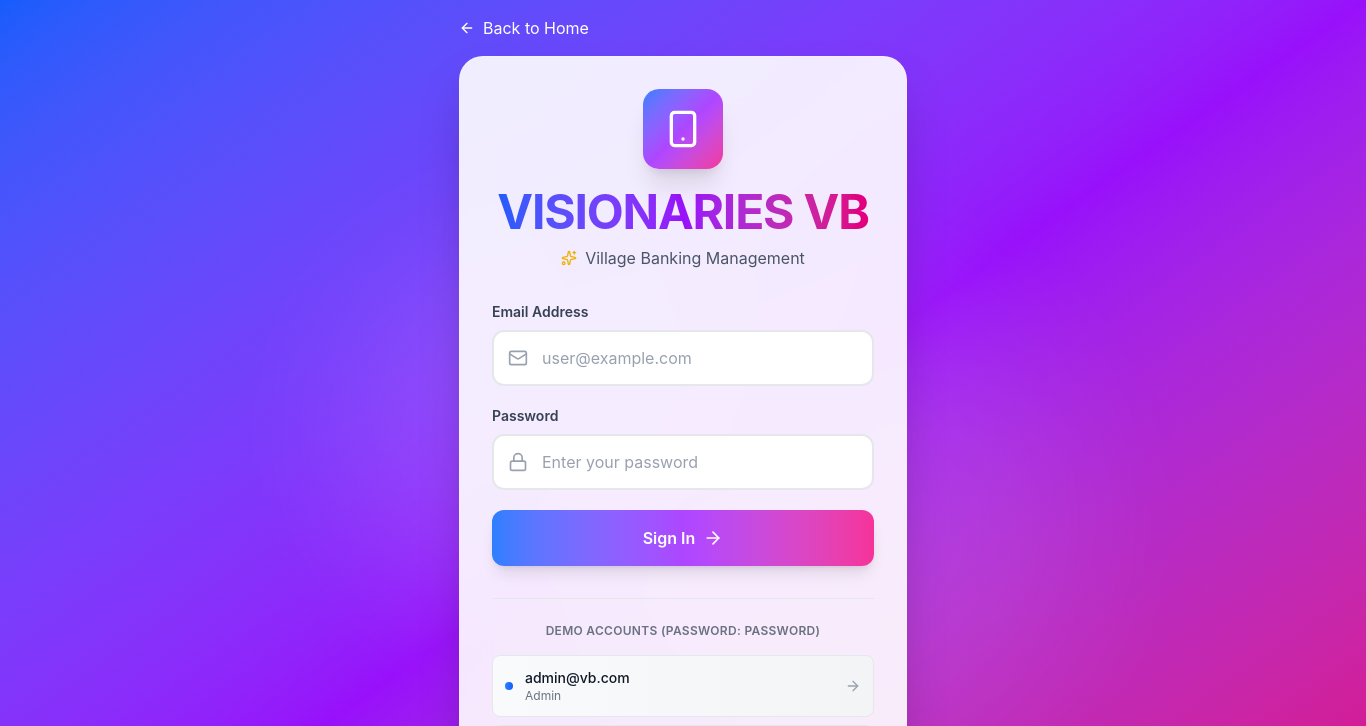
Scenario: Login page › shows error message on login failure
This screenshot has width=1366, height=726.
Type "bad@vb.com" into the field with placeholder "user@example.com" at (683, 358), box x1=492 y1=330 x2=874 y2=386
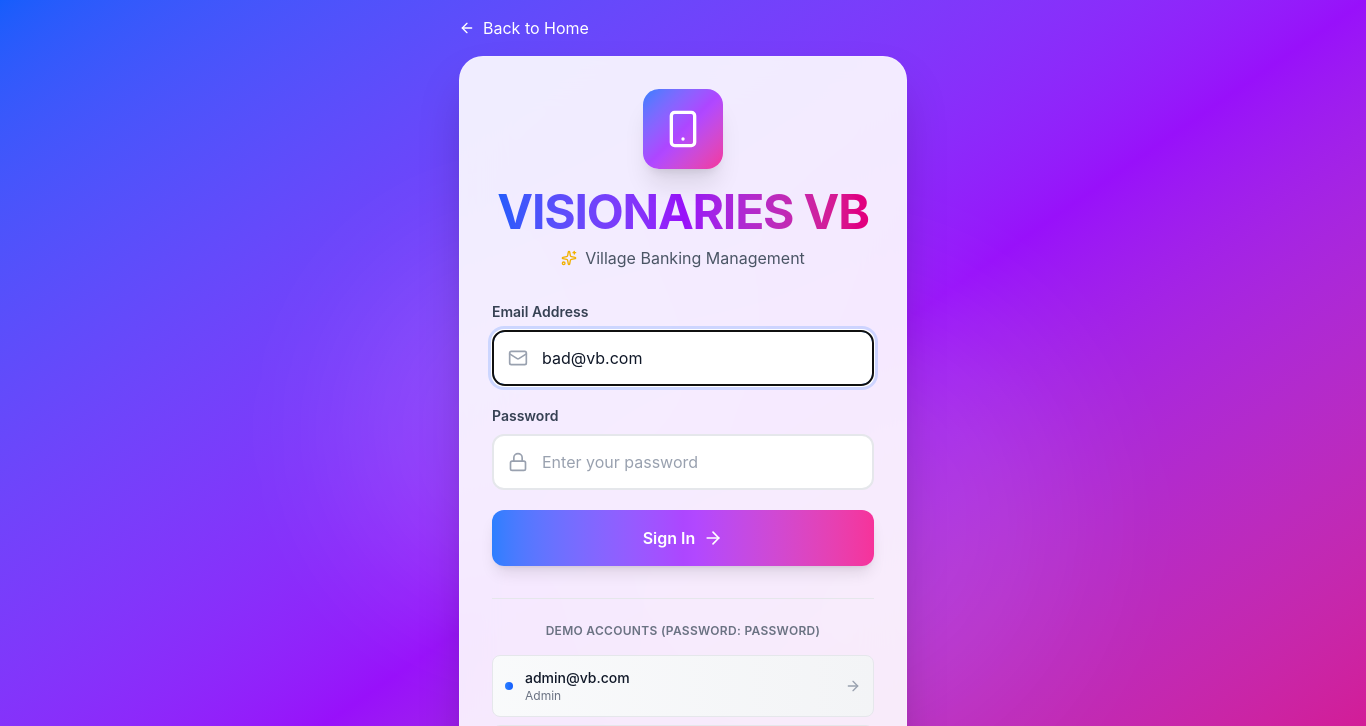
Type "wrong" into the password field with placeholder "Enter your password" at (683, 462), box x1=492 y1=434 x2=874 y2=490
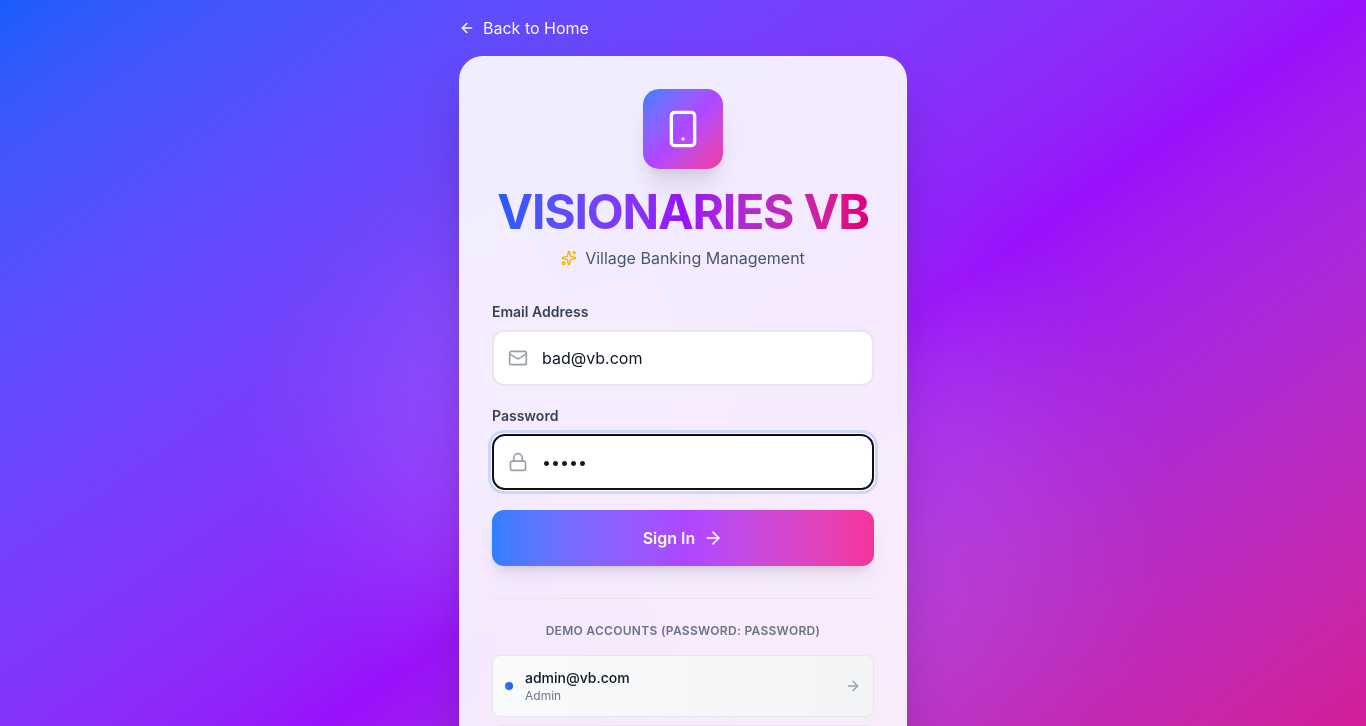
Click the button "Sign In" at (683, 538), box x1=492 y1=510 x2=874 y2=566
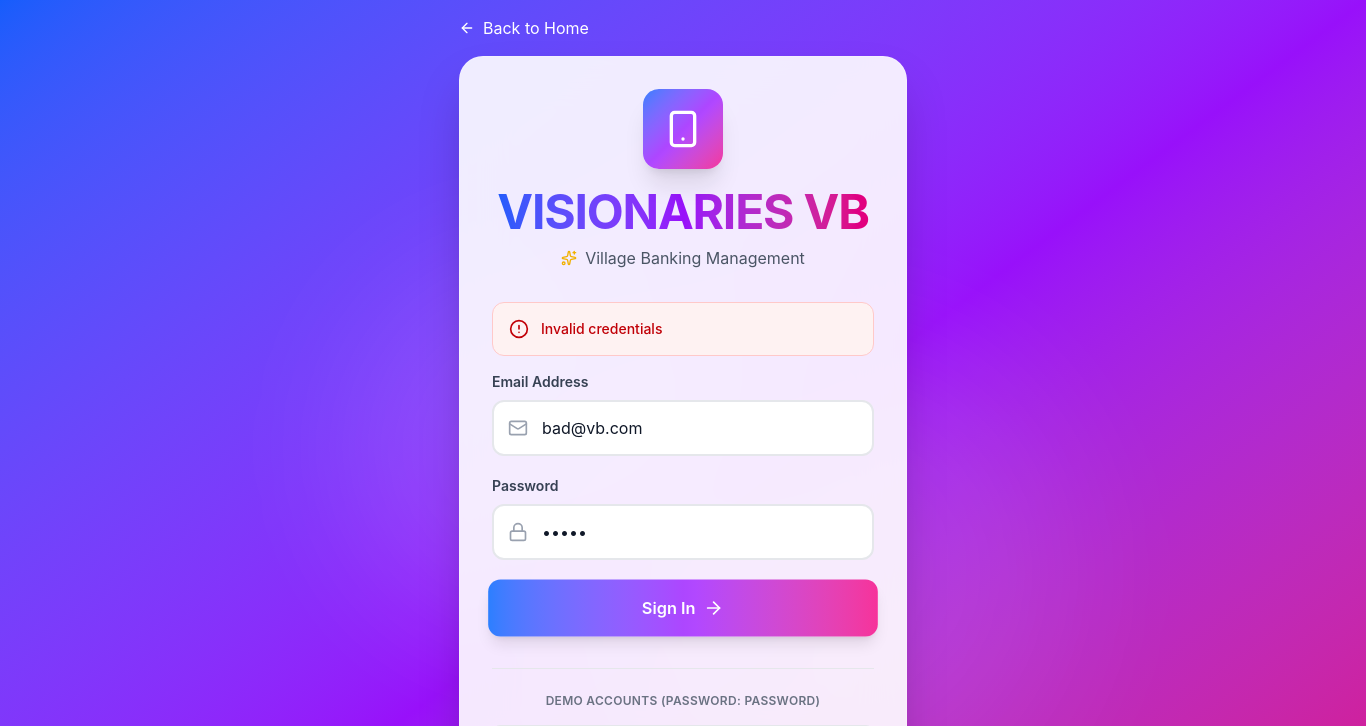
Result: the text "Invalid credentials" is shown at x1=541 y1=319 x2=662 y2=339
